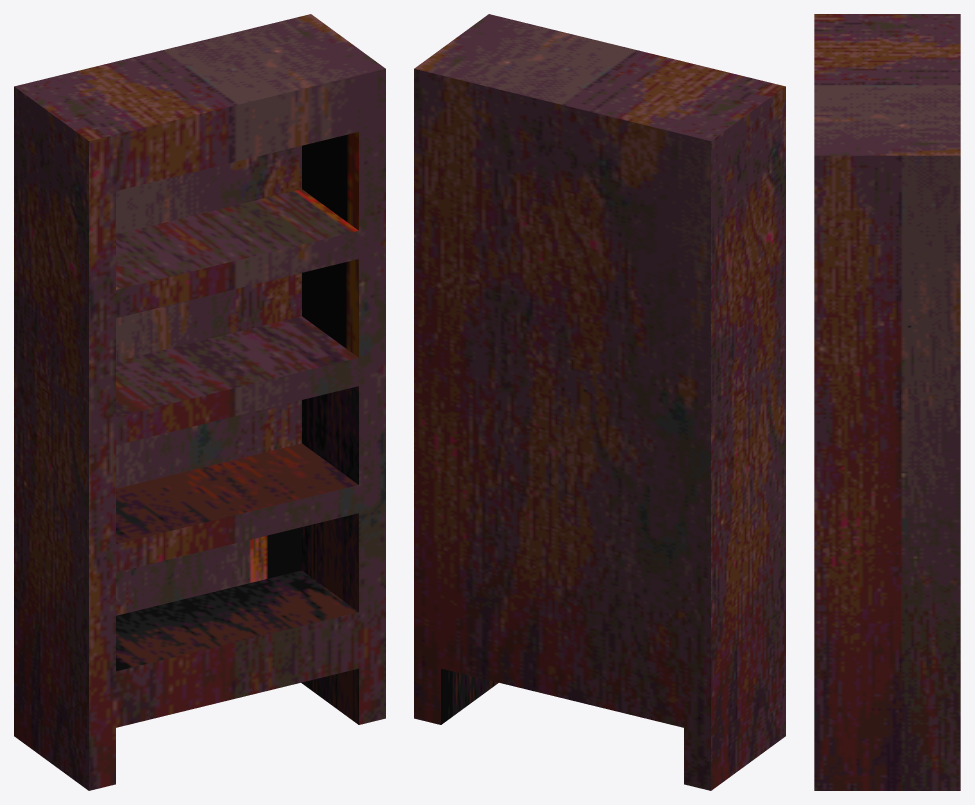
The model's file is bookshelf.fbx.
The picture shows the model from 3 angles, left to right: view 1: azimuth 30°, elevation 25°; view 2: azimuth 150°, elevation 25°; view 3: azimuth 270°, elevation 25°; orthographic projection. The views are drawn at different scales.
Visible parts, largest first — view 1: bookshelf; view 2: bookshelf; view 3: bookshelf.
Boxes of the visible parts, left/top/right/bottom form: bookshelf: left=14, top=14, right=385, bottom=790; bookshelf: left=414, top=14, right=785, bottom=790; bookshelf: left=814, top=14, right=960, bottom=790.
Size of the model in its own units: 275 by 575 by 120.
